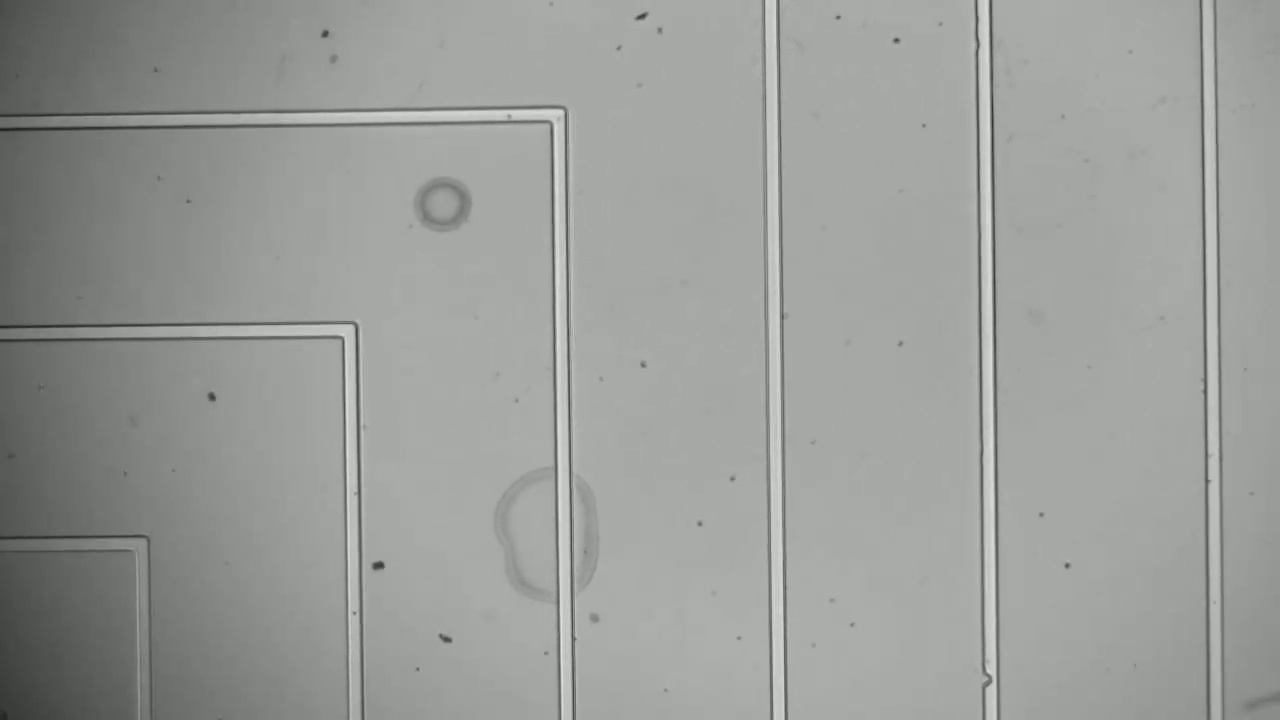edge_bite: (969, 664, 1007, 695)
